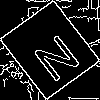N: (25, 25, 84, 84)
